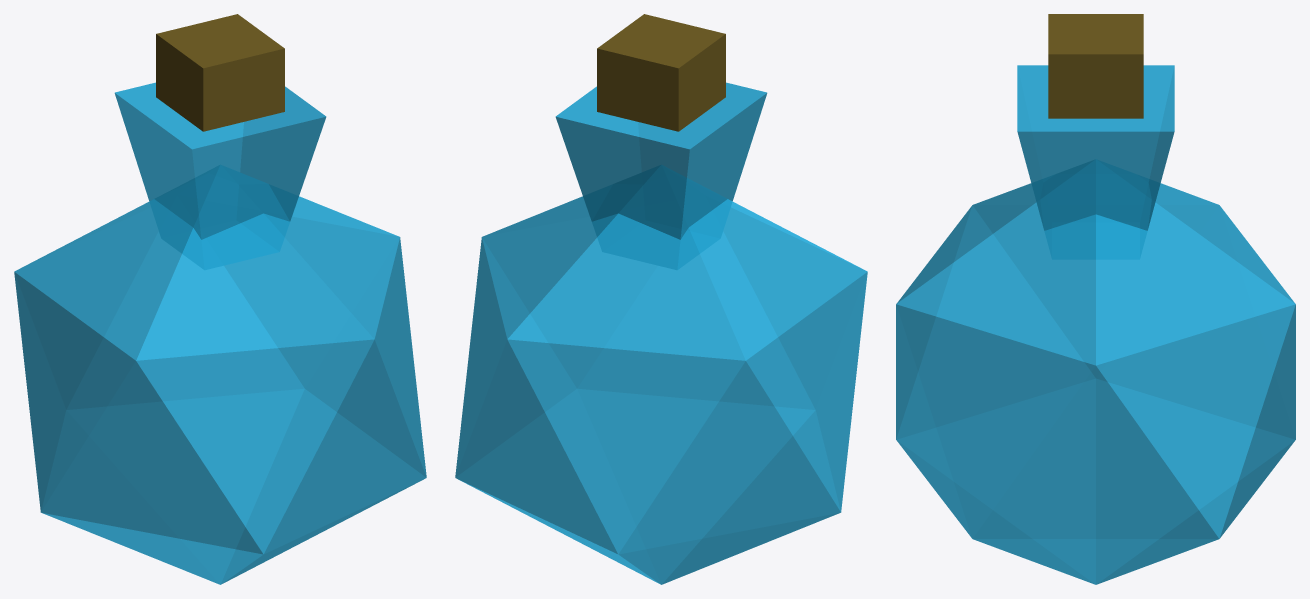
Rendered from FlaskRound.fbx.
3 renders of one model, left to right at view 1: azimuth 30°, elevation 25°; view 2: azimuth 150°, elevation 25°; view 3: azimuth 270°, elevation 25°, orthographic.
Visible parts, largest first — view 1: Icosphere; view 2: Icosphere; view 3: Icosphere.
Part boxes in pixels (x1=…): Icosphere: x1=14, y1=14, x2=426, y2=584; Icosphere: x1=455, y1=14, x2=867, y2=584; Icosphere: x1=896, y1=14, x2=1295, y2=584.
Size of the model in its own units: 179 by 259 by 170.
